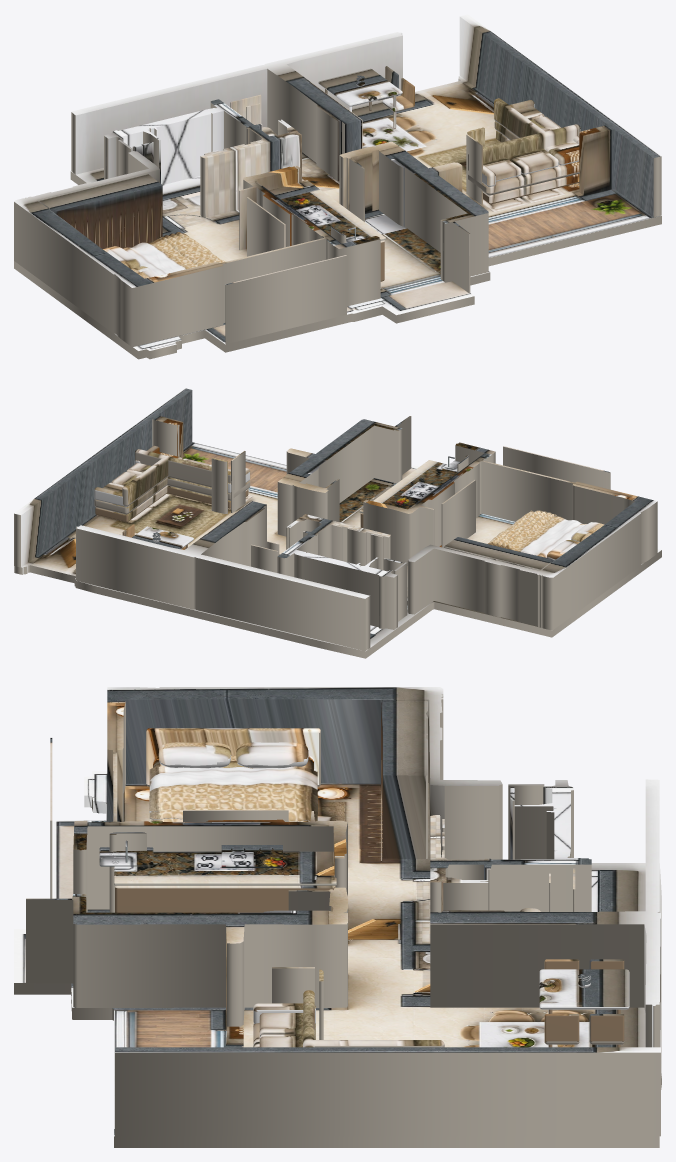
Rendered from p4-02-u12-0110-image-model.glb.
3 renders of one model, top to bottom at view 1: azimuth 30°, elevation 25°; view 2: azimuth 150°, elevation 25°; view 3: azimuth 270°, elevation 25°, orthographic. The views are drawn at different scales.
Visible parts, largest first — view 1: Partition walls, Apartment floor, Stone worktop, Marble dining top, Draped bed linen, Sofa back, Upholstered sofa frame, Sofa back.001, Sofa plinth, Draped bed linen.001, Seat cushion.001, Seat cushion.002 (+1 smaller); view 2: Partition walls, Apartment floor, Draped bed linen, Stone worktop, Sofa back, Sofa back.001, Draped bed linen.001, Marble dining top, Upholstered sofa frame.001, Sofa plinth.001, Upholstered sofa frame, Sofa plinth; view 3: Partition walls, Apartment floor, Stone worktop, Draped bed linen, Kitchen cabinets, Marble dining top, Upholstered headboard, Draped bed linen.001, Tailored pillow.001, Tailored pillow, Inset cooktop, Sofa back.001 (+5 smaller).
Part boxes in pixels (left/top/right/bottom): Partition walls: left=14, top=14, right=661, bottom=347; Apartment floor: left=14, top=76, right=661, bottom=359; Stone worktop: left=268, top=180, right=385, bottom=240; Marble dining top: left=318, top=68, right=402, bottom=106; Draped bed linen: left=122, top=233, right=225, bottom=275; Sofa back: left=468, top=124, right=580, bottom=170; Upholstered sofa frame: left=468, top=161, right=579, bottom=195; Sofa back.001: left=494, top=98, right=548, bottom=149; Sofa plinth: left=483, top=174, right=579, bottom=204; Draped bed linen.001: left=157, top=232, right=221, bottom=266; Seat cushion.001: left=508, top=148, right=558, bottom=174; Seat cushion.002: left=545, top=140, right=579, bottom=165; Partition walls: left=14, top=388, right=657, bottom=650; Apartment floor: left=14, top=442, right=661, bottom=658; Draped bed linen: left=487, top=510, right=586, bottom=557; Stone worktop: left=359, top=460, right=451, bottom=513; Sofa back: left=135, top=449, right=234, bottom=489; Sofa back.001: left=122, top=456, right=168, bottom=506; Draped bed linen.001: left=489, top=510, right=556, bottom=548; Marble dining top: left=132, top=526, right=193, bottom=549; Upholstered sofa frame.001: left=94, top=478, right=167, bottom=514; Sofa plinth.001: left=95, top=485, right=167, bottom=522; Upholstered sofa frame: left=167, top=477, right=250, bottom=500; Sofa plinth: left=167, top=485, right=248, bottom=508; Partition walls: left=26, top=687, right=660, bottom=1136; Apartment floor: left=14, top=771, right=661, bottom=1147; Stone worktop: left=114, top=851, right=336, bottom=885; Draped bed linen: left=149, top=766, right=317, bottom=821; Kitchen cabinets: left=115, top=885, right=335, bottom=912; Marble dining top: left=539, top=969, right=629, bottom=1009; Upholstered headboard: left=146, top=728, right=320, bottom=786; Draped bed linen.001: left=149, top=790, right=317, bottom=814; Tailored pillow.001: left=236, top=742, right=308, bottom=768; Tailored pillow: left=158, top=742, right=231, bottom=768; Inset cooktop: left=221, top=845, right=282, bottom=867; Sofa back.001: left=303, top=1040, right=444, bottom=1047.
Size of the model in its own units: 10.72 by 1.3 by 8.02.
Materials: 14 (3 with a texture image).
